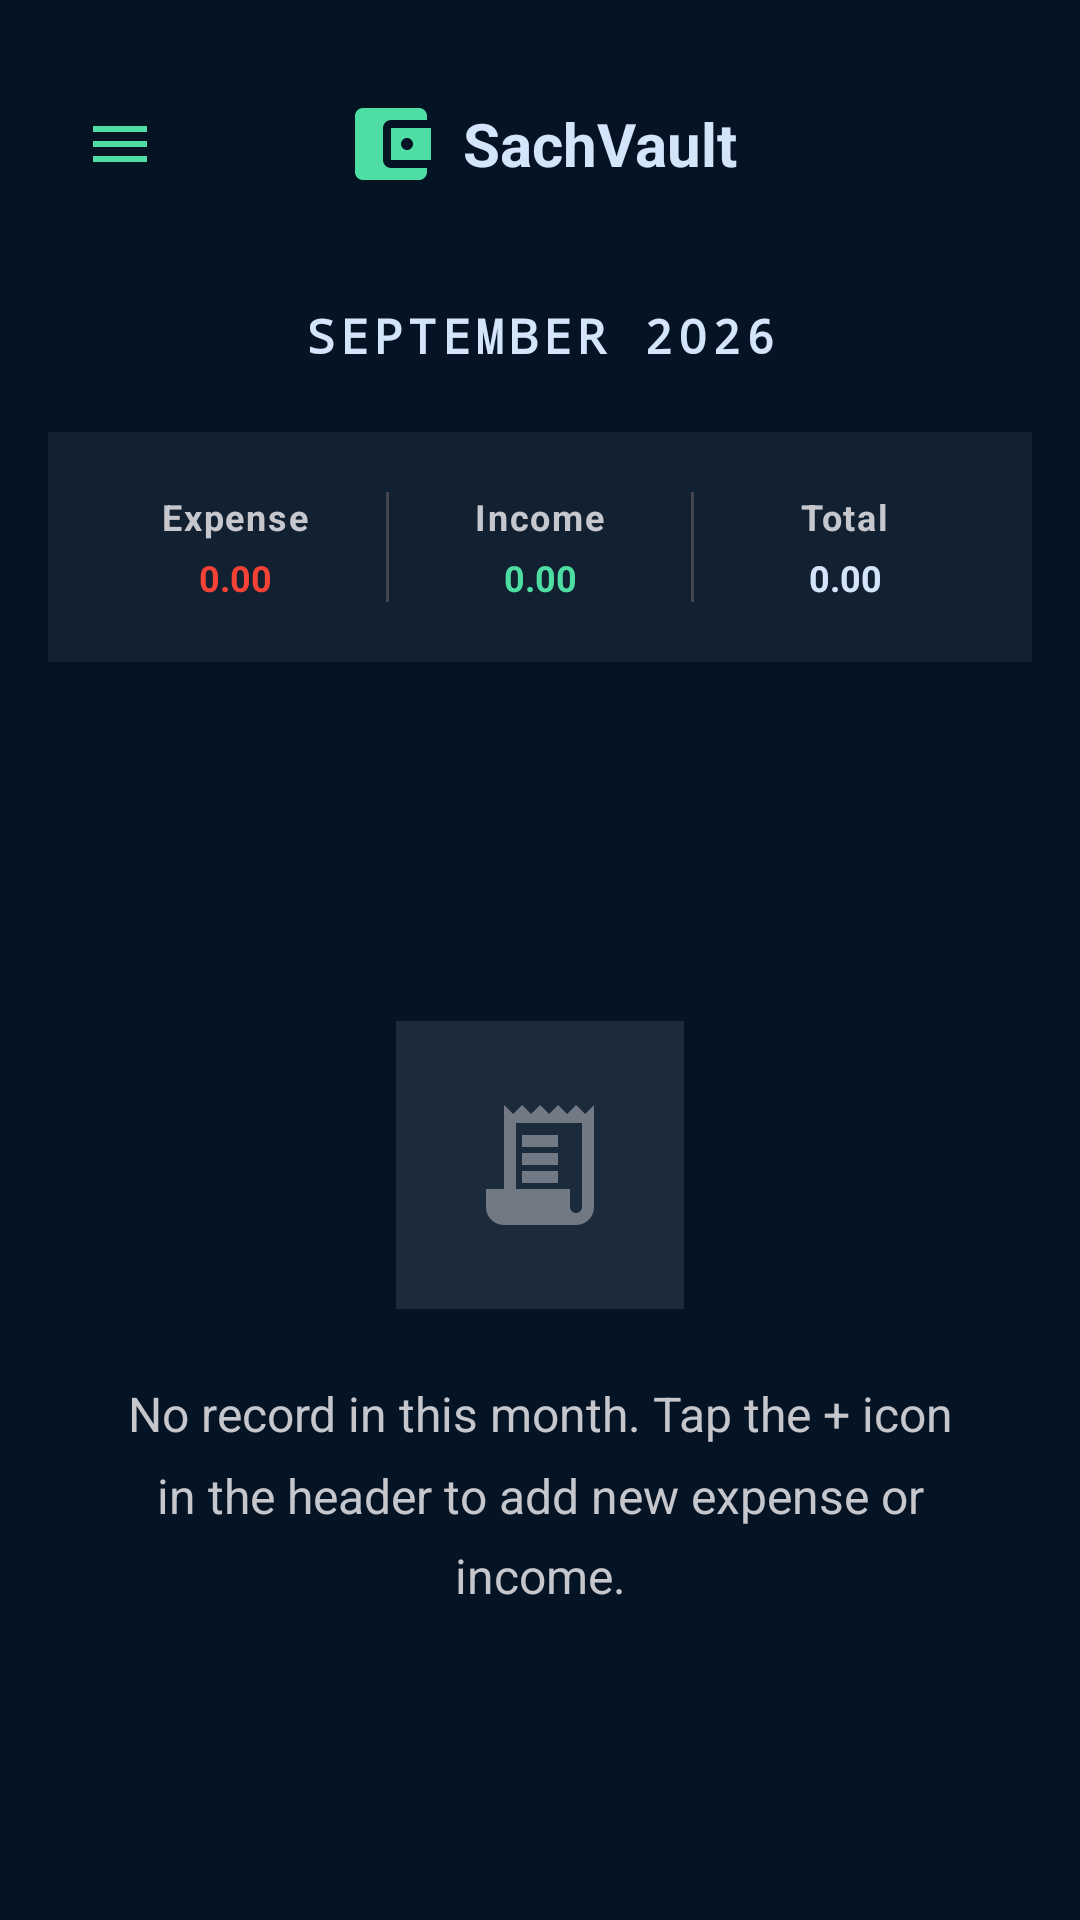

Where to tap for icons on this 1080px x 1920px app screen, as (x=x, y=y):
account balance wallet: (x=393, y=144)
Menu: (x=120, y=144)
receipt long: (x=540, y=1165)
